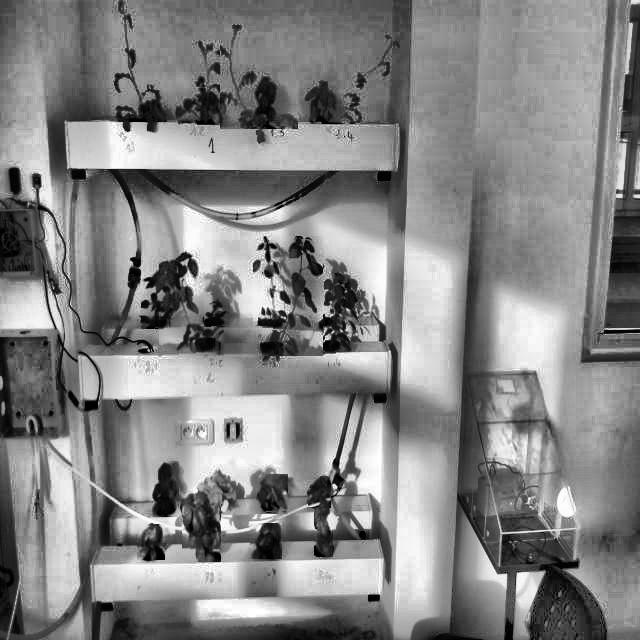plants: (220, 25, 298, 129), (262, 236, 323, 356), (159, 249, 224, 361), (111, 0, 168, 122), (328, 36, 406, 122), (178, 42, 233, 125), (317, 275, 358, 358), (182, 494, 221, 562), (253, 238, 283, 326), (141, 268, 178, 329), (151, 461, 179, 517), (257, 474, 288, 513), (250, 523, 282, 559), (314, 499, 333, 557), (137, 524, 165, 560), (204, 295, 229, 327), (308, 476, 331, 507)
